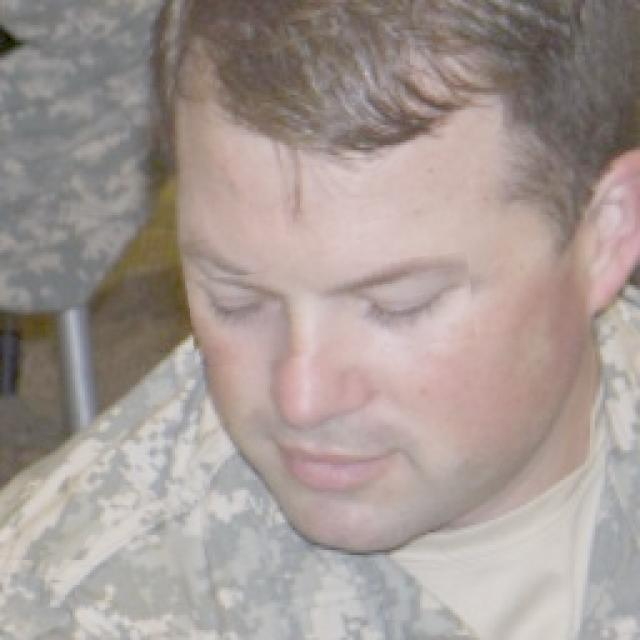no-glasses: (188, 259, 474, 361)
